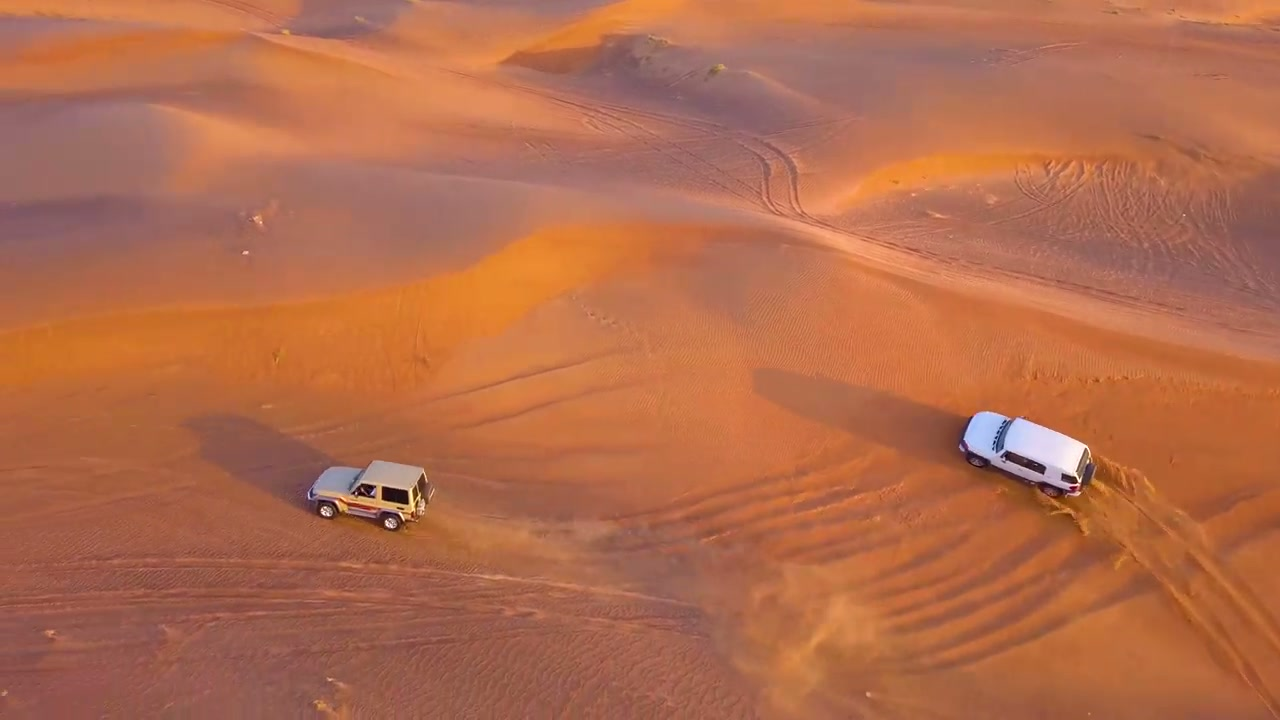vehicle_track: (422, 65, 1205, 321), (435, 67, 1189, 316), (630, 109, 1191, 317), (434, 67, 943, 259), (0, 557, 705, 667), (1058, 462, 1279, 717), (183, 349, 619, 474), (435, 68, 801, 216), (981, 158, 1274, 307), (0, 582, 695, 634), (1125, 496, 1279, 717), (0, 557, 691, 606), (867, 535, 1098, 673), (280, 348, 620, 441), (611, 457, 895, 551), (609, 442, 830, 526), (447, 376, 654, 432), (0, 457, 195, 512), (991, 161, 1091, 223), (198, 0, 287, 28), (986, 41, 1084, 66)
